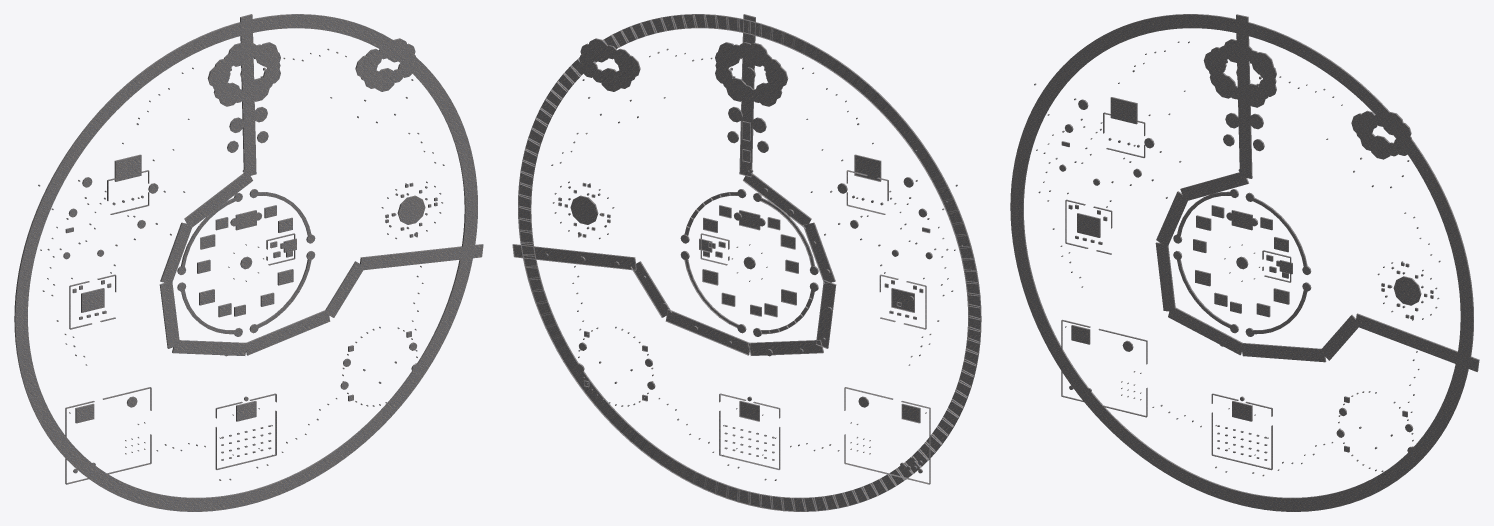
Rendered from red_world_collision.obj.
3 renders of one model, left to right at view 1: azimuth 30°, elevation 25°; view 2: azimuth 150°, elevation 25°; view 3: azimuth 330°, elevation 25°, orthographic.
Visible parts, largest first — view 1: river_water_00__material_stone__part_00, river_water_07__material_stone__part_00, river_water_05__material_stone__part_00, river_water_04__material_stone__part_00, river_water_01__material_stone__part_00, river_water_03__material_stone__part_00, river_water_02__material_stone__part_00, river_water_06__material_stone__part_00, mana_spring__material_stone__part_00, adventurers_guild__material_stone__part_00; view 2: river_water_07__material_stone__part_00, river_water_00__material_stone__part_00, river_water_05__material_stone__part_00, river_water_04__material_stone__part_00, river_water_01__material_stone__part_00, river_water_03__material_stone__part_00, river_water_02__material_stone__part_00, river_water_06__material_stone__part_00, mana_spring__material_stone__part_00, adventurers_guild__material_stone__part_00; view 3: river_water_00__material_stone__part_00, river_water_07__material_stone__part_00, river_water_05__material_stone__part_00, river_water_04__material_stone__part_00, river_water_01__material_stone__part_00, river_water_03__material_stone__part_00, river_water_02__material_stone__part_00, river_water_06__material_stone__part_00, mana_spring__material_stone__part_00, adventurers_guild__material_stone__part_00.
Part boxes in pixels (x1=…): river_water_00__material_stone__part_00: x1=240, y1=14, x2=256, y2=175; river_water_07__material_stone__part_00: x1=360, y1=244, x2=483, y2=270; river_water_05__material_stone__part_00: x1=246, y1=310, x2=330, y2=355; river_water_04__material_stone__part_00: x1=172, y1=340, x2=247, y2=355; river_water_01__material_stone__part_00: x1=184, y1=171, x2=252, y2=228; river_water_03__material_stone__part_00: x1=159, y1=282, x2=179, y2=348; river_water_02__material_stone__part_00: x1=160, y1=222, x2=191, y2=283; river_water_06__material_stone__part_00: x1=325, y1=261, x2=364, y2=317; mana_spring__material_stone__part_00: x1=397, y1=195, x2=425, y2=224; adventurers_guild__material_stone__part_00: x1=114, y1=154, x2=141, y2=181; river_water_07__material_stone__part_00: x1=512, y1=244, x2=636, y2=270; river_water_00__material_stone__part_00: x1=739, y1=14, x2=755, y2=177; river_water_05__material_stone__part_00: x1=665, y1=309, x2=750, y2=355; river_water_04__material_stone__part_00: x1=747, y1=340, x2=823, y2=355; river_water_01__material_stone__part_00: x1=743, y1=170, x2=811, y2=228; river_water_03__material_stone__part_00: x1=816, y1=280, x2=836, y2=348; river_water_02__material_stone__part_00: x1=803, y1=222, x2=835, y2=283; river_water_06__material_stone__part_00: x1=630, y1=261, x2=671, y2=317; mana_spring__material_stone__part_00: x1=570, y1=195, x2=598, y2=224; adventurers_guild__material_stone__part_00: x1=854, y1=154, x2=881, y2=181; river_water_00__material_stone__part_00: x1=1236, y1=14, x2=1252, y2=178; river_water_07__material_stone__part_00: x1=1356, y1=313, x2=1479, y2=371; river_water_05__material_stone__part_00: x1=1242, y1=343, x2=1326, y2=362; river_water_04__material_stone__part_00: x1=1168, y1=306, x2=1243, y2=355; river_water_01__material_stone__part_00: x1=1180, y1=172, x2=1248, y2=201; river_water_03__material_stone__part_00: x1=1155, y1=242, x2=1175, y2=311; river_water_02__material_stone__part_00: x1=1156, y1=191, x2=1187, y2=246; river_water_06__material_stone__part_00: x1=1320, y1=314, x2=1360, y2=360; mana_spring__material_stone__part_00: x1=1393, y1=276, x2=1421, y2=305; adventurers_guild__material_stone__part_00: x1=1110, y1=97, x2=1137, y2=124.
Bounding box in the file's own units: 595 × 594 × 2.
1 material, 1 textured.
